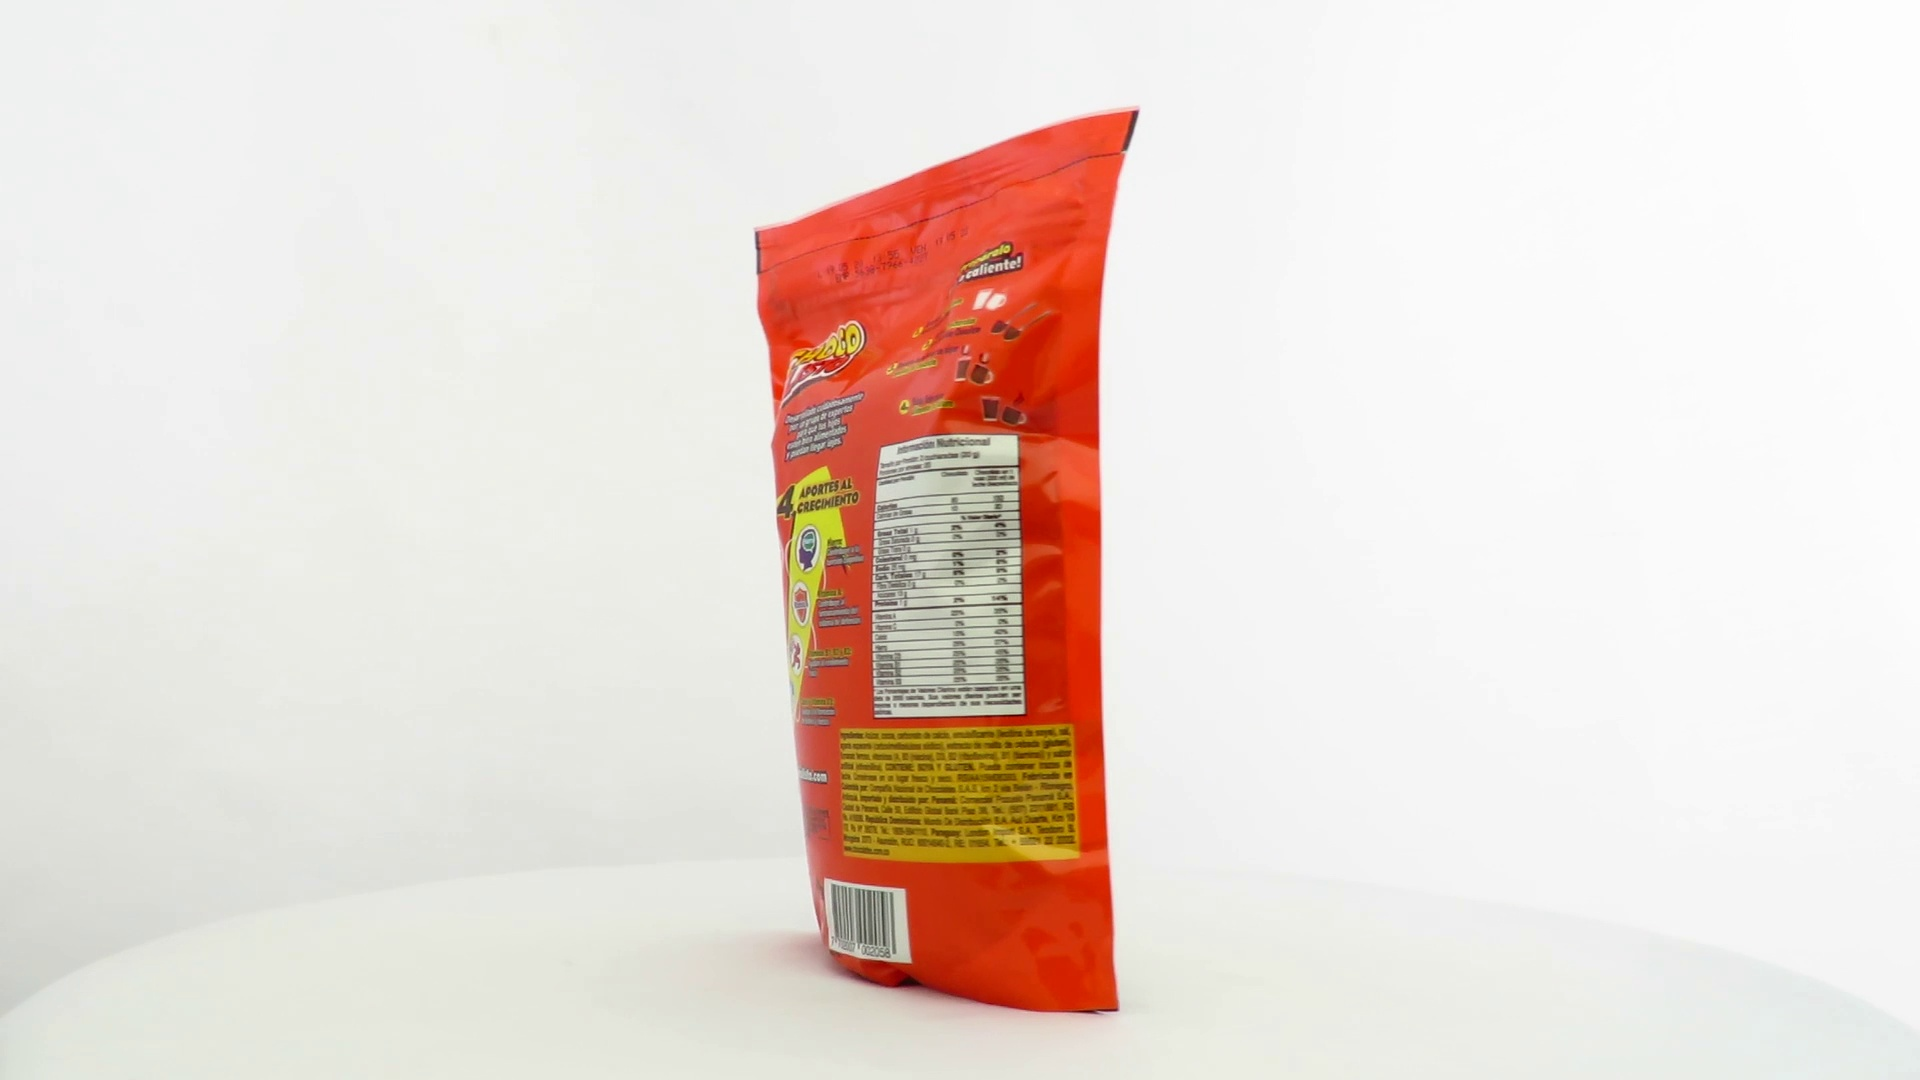COL0170103DYP40000: (750, 105, 1145, 1023)
